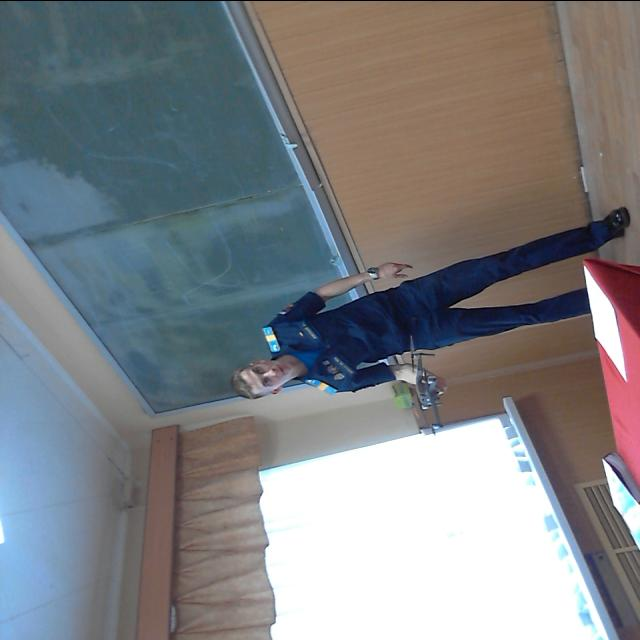drone: (395, 328, 455, 440)
